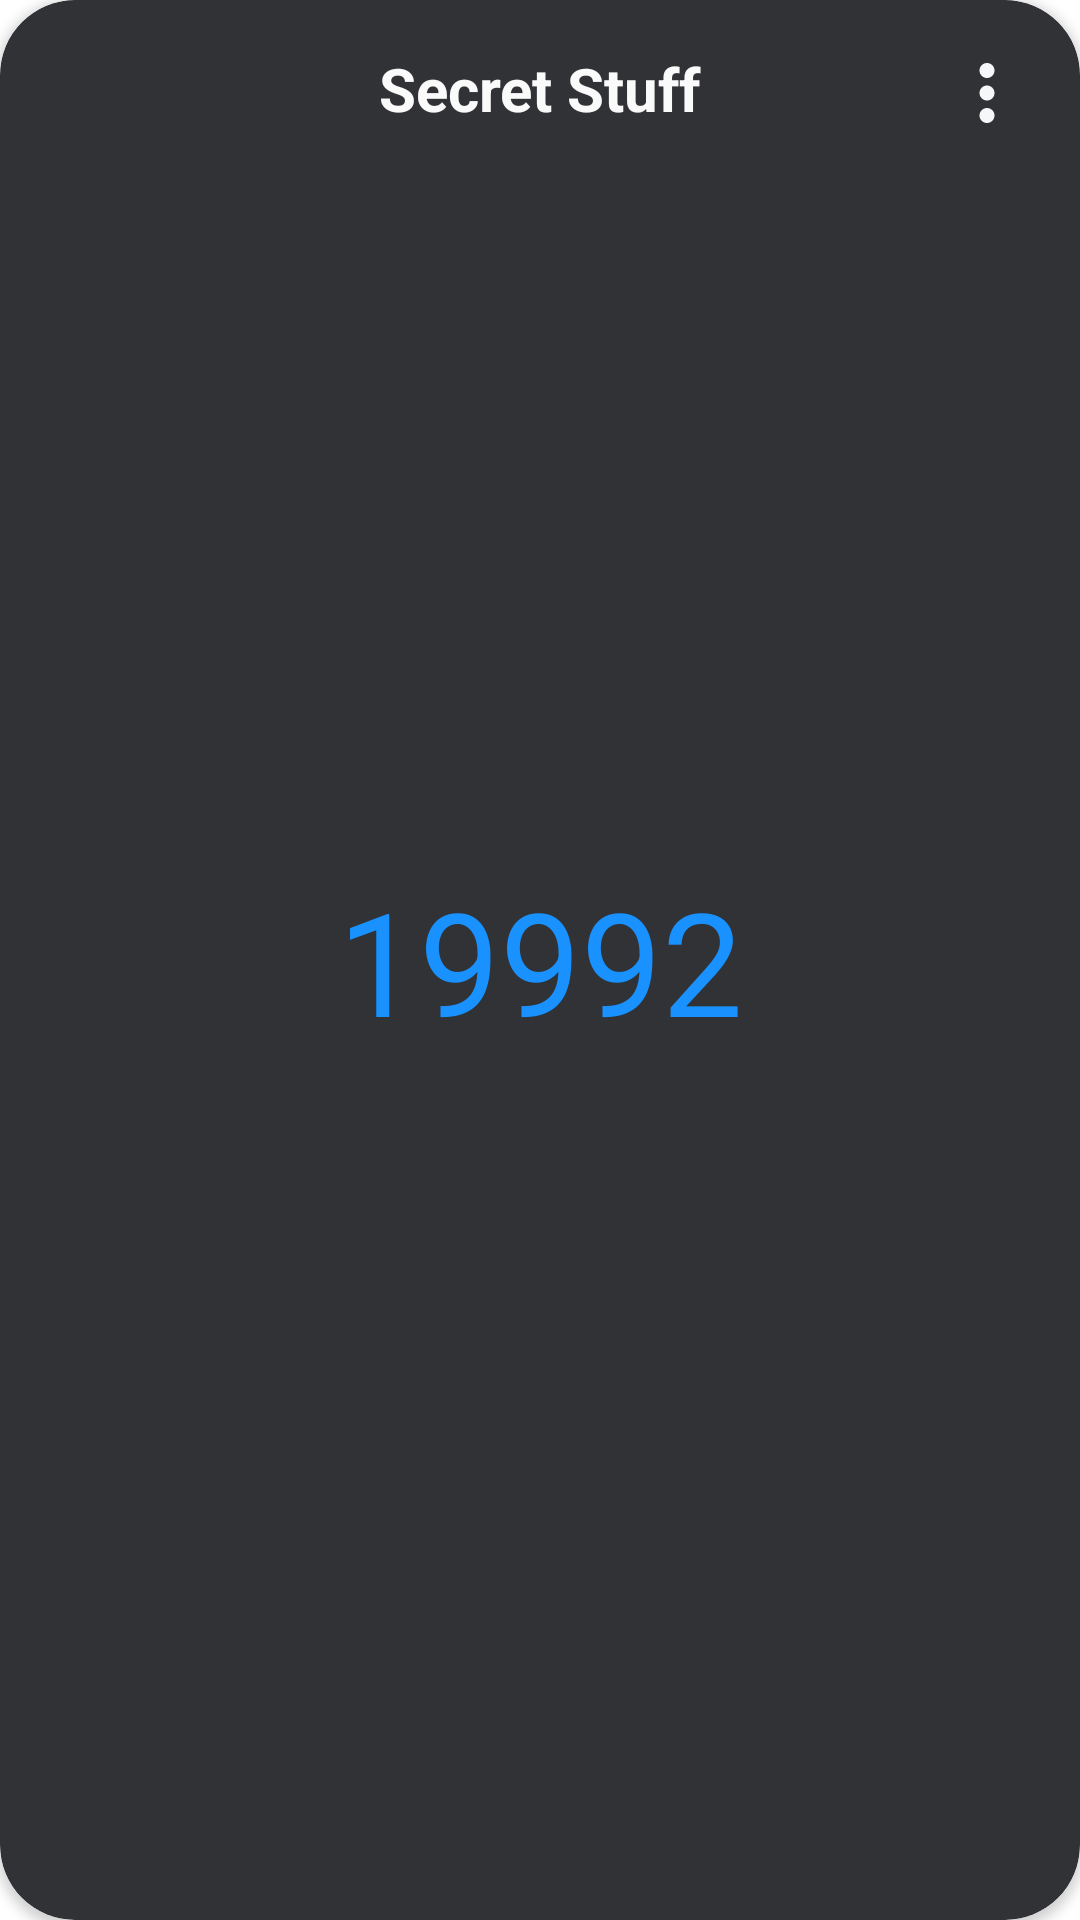

Named icons in this screenshot (1080w x 1920h) and their centers, (x=x, y=y):
more vert: (x=987, y=93)
